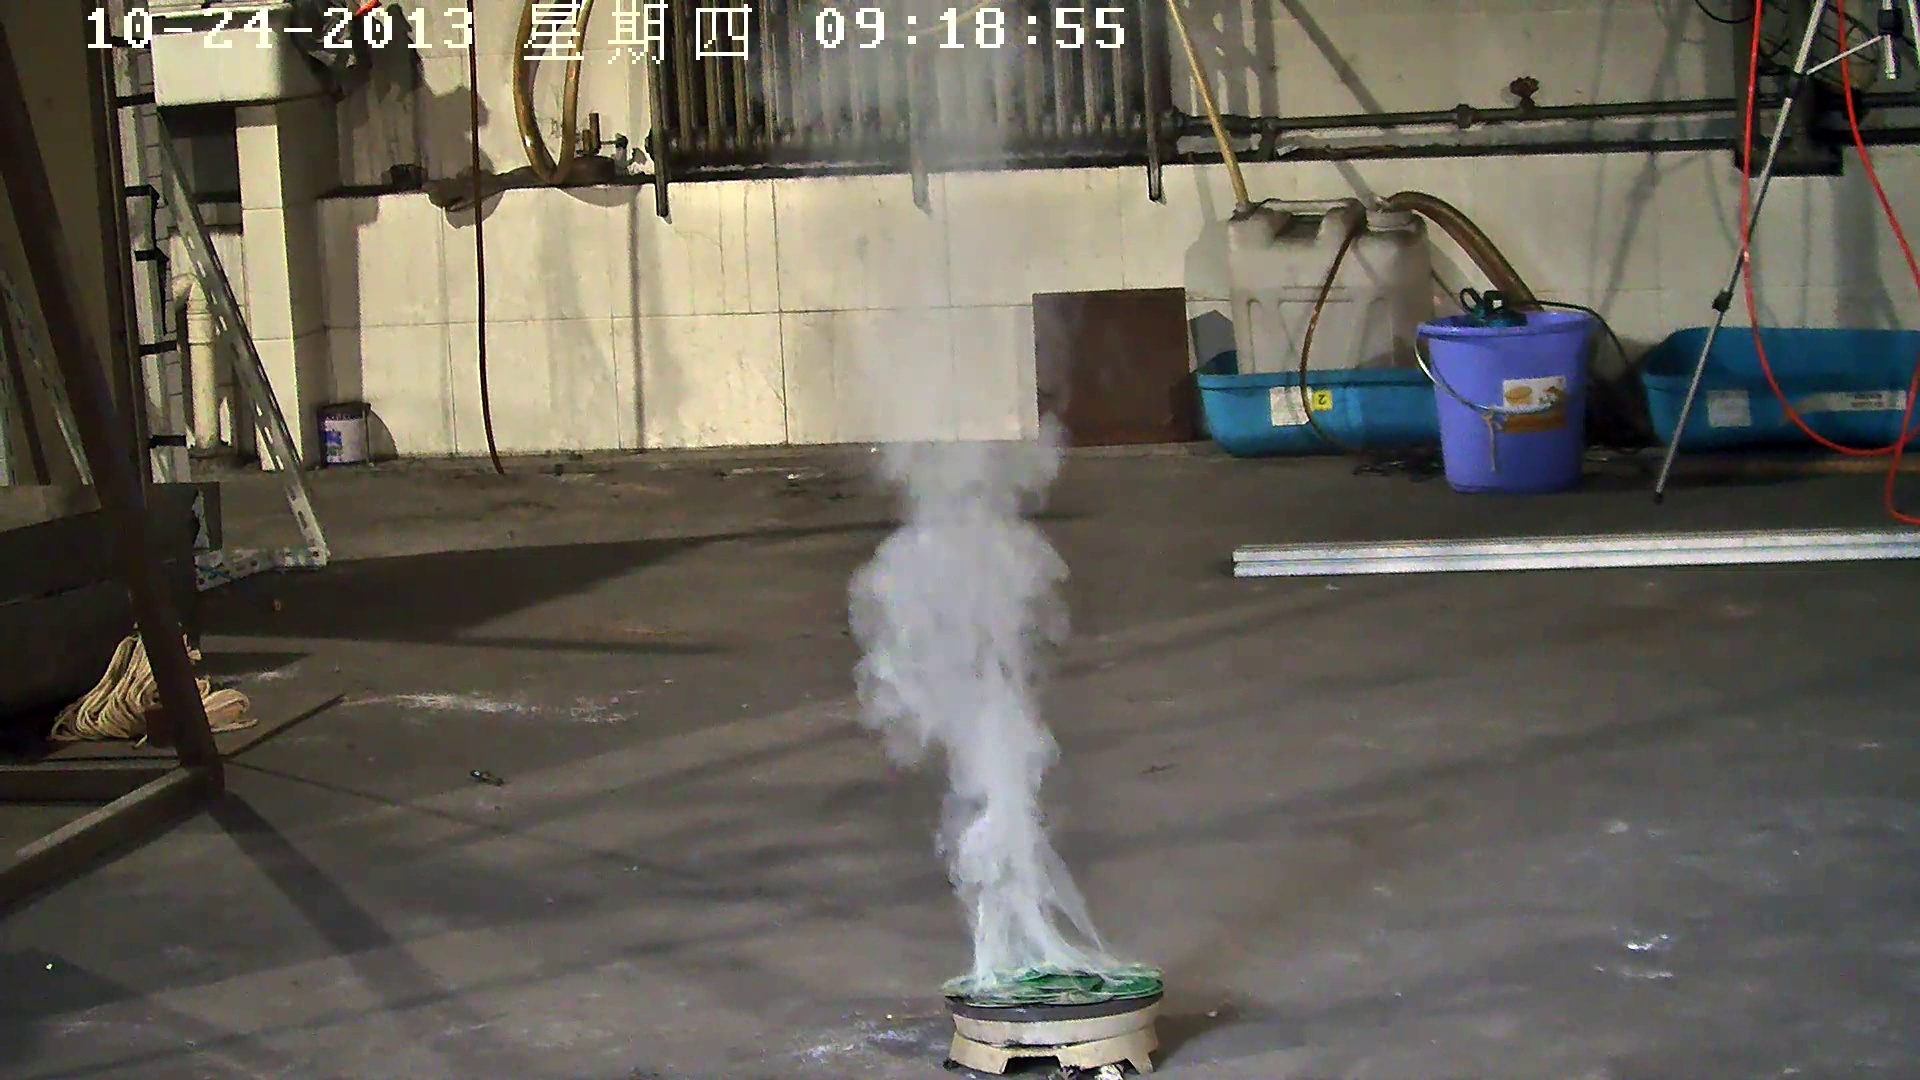smoke: (765, 167, 1192, 1000)
